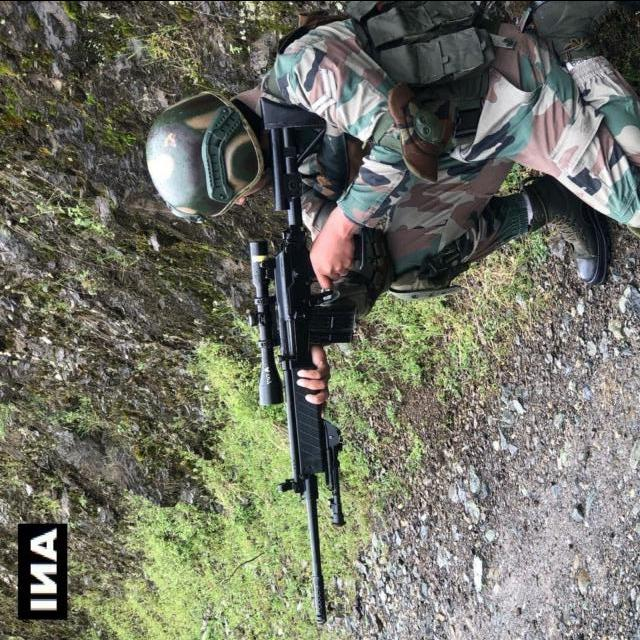sniper rifle: (248, 98, 363, 630)
